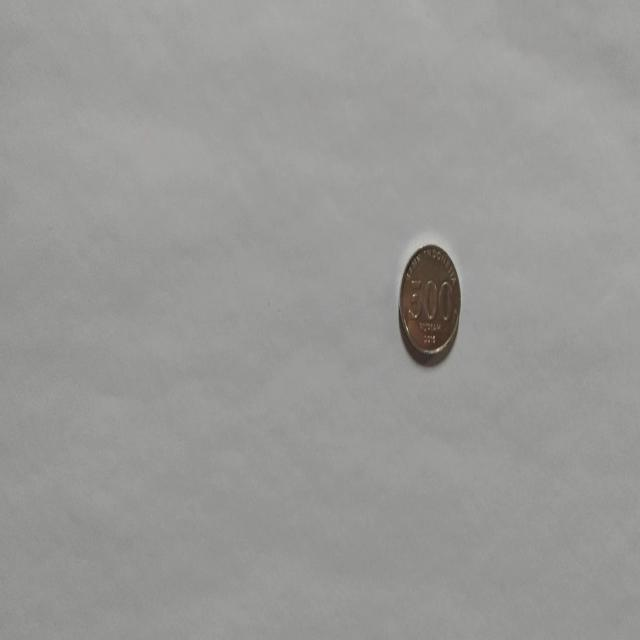lima ratus rupiah: (398, 242, 462, 362)
